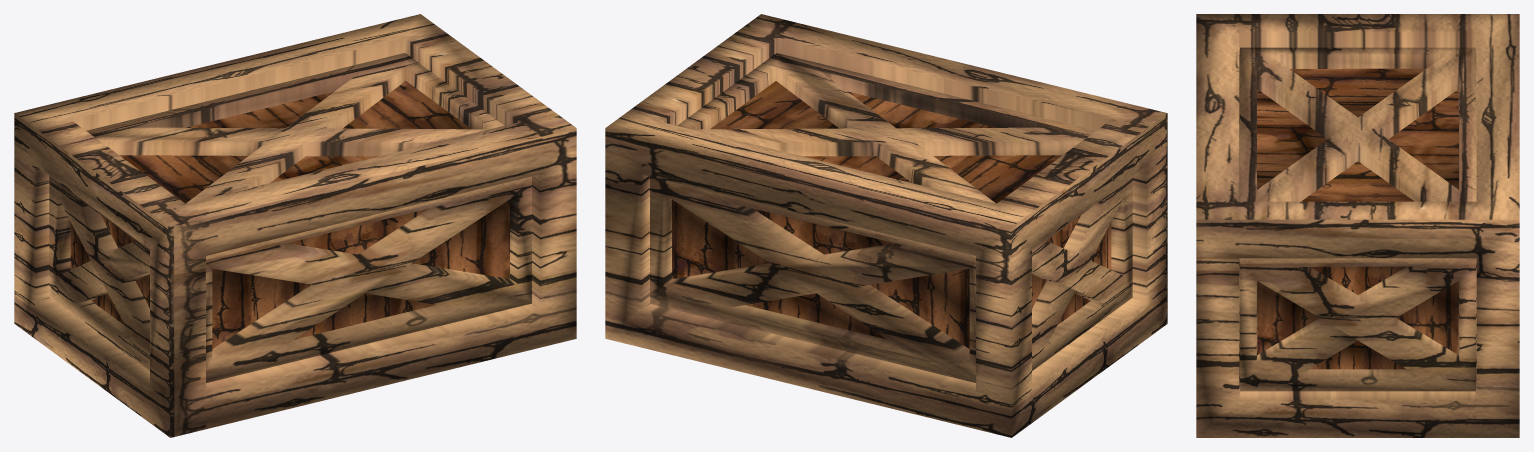
The model's file is large_crate.glb.
The picture shows the model from 3 angles, left to right: view 1: azimuth 30°, elevation 25°; view 2: azimuth 150°, elevation 25°; view 3: azimuth 270°, elevation 25°; orthographic projection. The views are drawn at different scales.
Visible parts, largest first — view 1: Big Crate; view 2: Big Crate; view 3: Big Crate.
Boxes of the visible parts, x1,y1,x2,y2 form: Big Crate: (14,14,576,437); Big Crate: (605,14,1167,437); Big Crate: (1196,14,1519,437).
Size of the model in its own units: 1.39 by 0.6907 by 0.926.
Materials: 2 (2 with a texture image).
